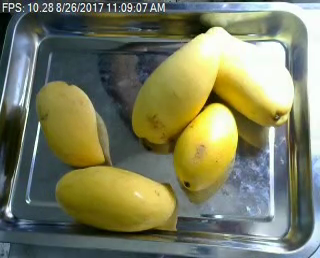Mango: (133, 30, 226, 146), (196, 25, 295, 128), (53, 164, 176, 233), (167, 98, 239, 192), (34, 79, 108, 165)
